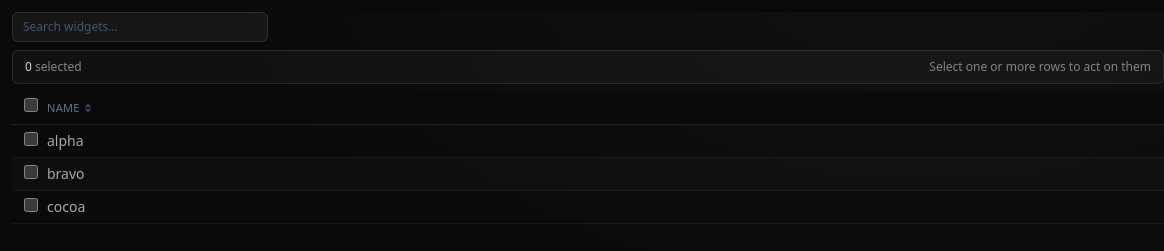
Test case: DataTable — row actions in one bar › ⭐ A MIXED SELECTION SAYS HOW MANY THE VERB WILL ACTUALLY TOUCH, BEFORE THE CLICK
The image size is (1164, 251).
Click the checkbox named "Select alpha" at (31, 139), box [24, 132, 38, 146]
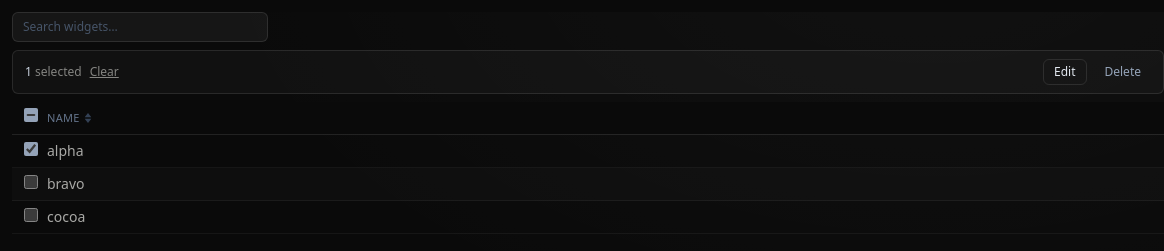
Click the checkbox named "Select bravo" at (31, 182), box [24, 175, 38, 189]
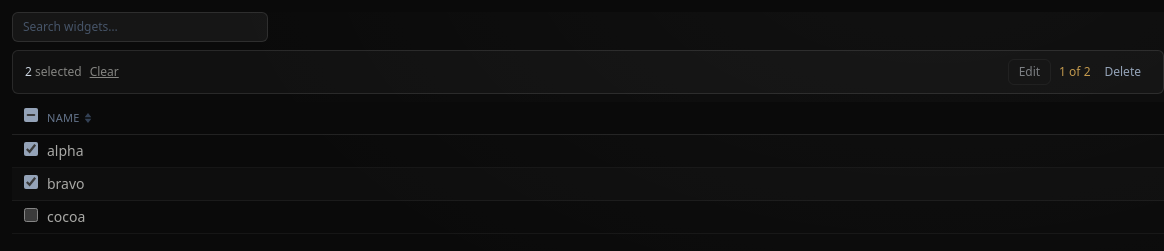
Expected: the text "1 of 2" is shown, [1059, 64, 1090, 80]
